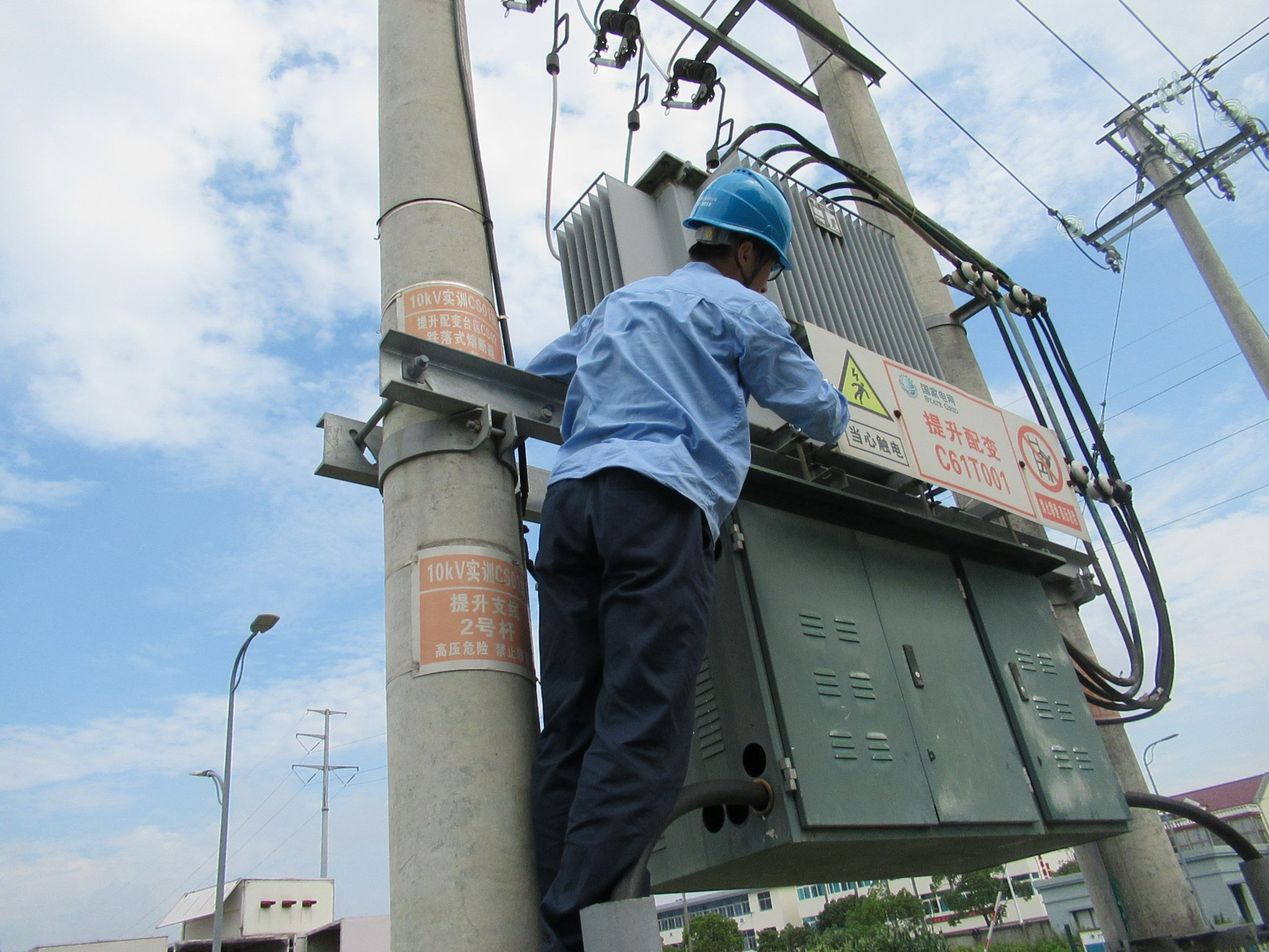未系安全绳的工作人员: (523, 163, 850, 944)
